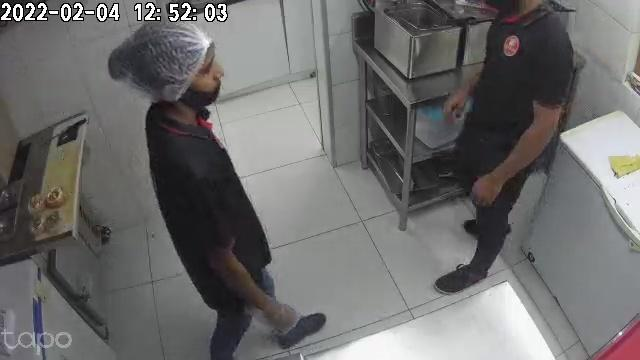no_gloves: (471, 165, 508, 207)
